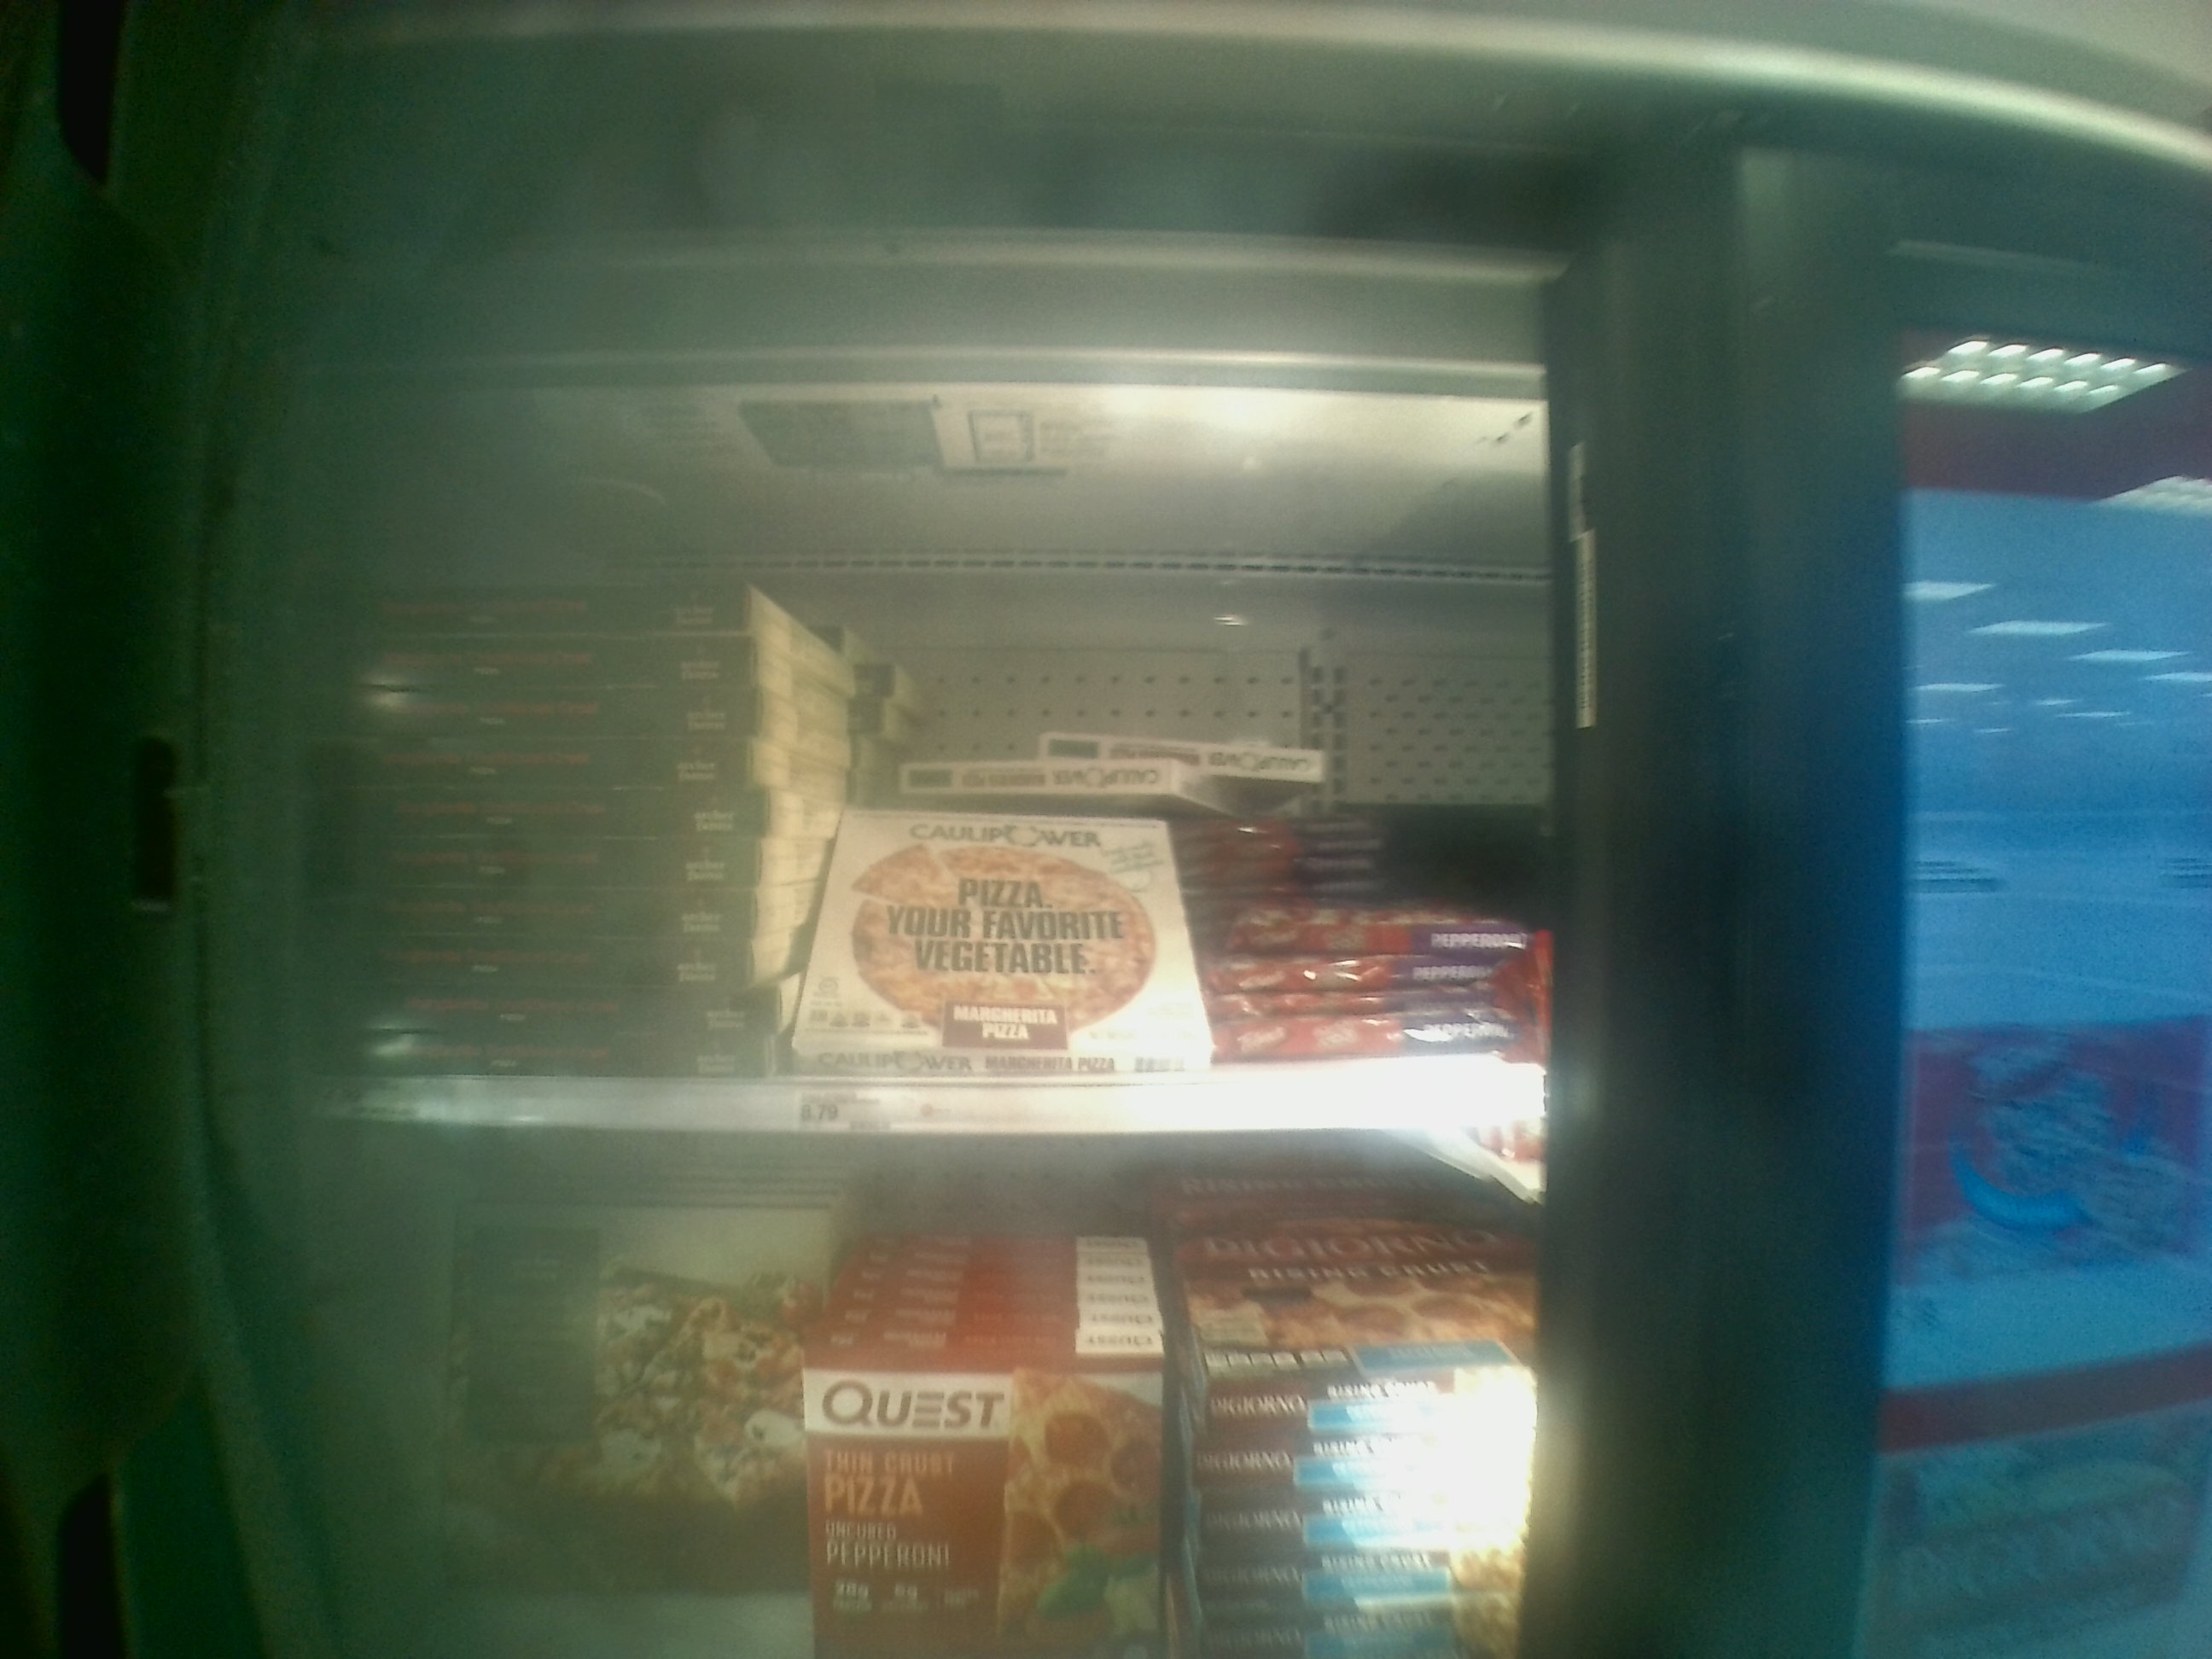shelf: (282, 249, 1543, 1127)
